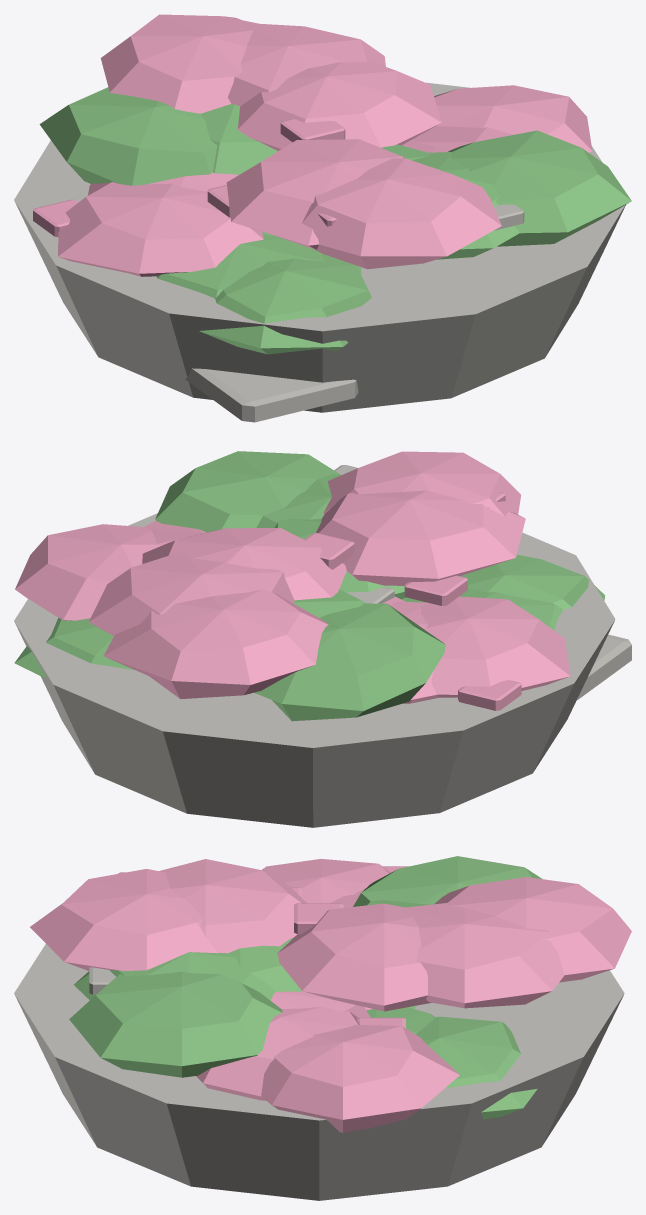
File: b08_circular_civic_flower_bed.glb
The picture shows the model from 3 angles, top to bottom: view 1: azimuth 30°, elevation 25°; view 2: azimuth 150°, elevation 25°; view 3: azimuth 270°, elevation 25°; orthographic projection. The views are drawn at different scales.
Visible parts, largest first — view 1: b08_circular_civic_flower_bed; view 2: b08_circular_civic_flower_bed; view 3: b08_circular_civic_flower_bed.
Part boxes in pixels (left/top/right/bottom): b08_circular_civic_flower_bed: left=14, top=14, right=631, bottom=422; b08_circular_civic_flower_bed: left=14, top=451, right=631, bottom=827; b08_circular_civic_flower_bed: left=14, top=856, right=631, bottom=1200.
Bounding box in the file's own units: 2.83 × 0.96 × 2.83.
